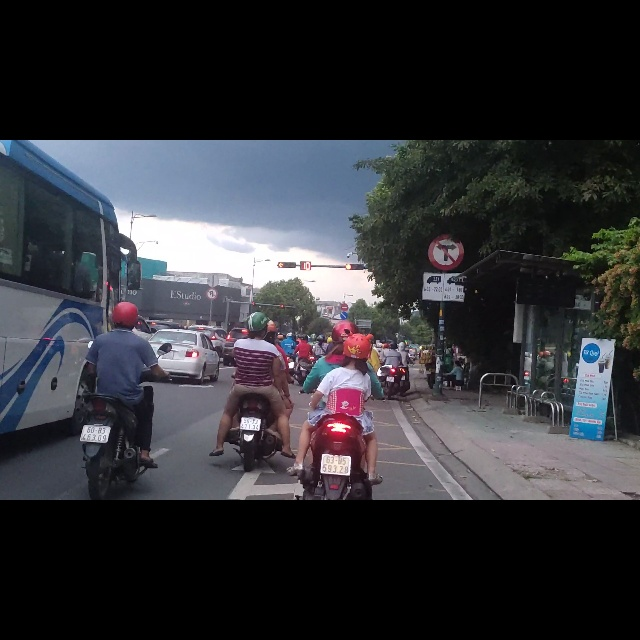bien_hieu_lenh: (427, 167, 464, 234), (422, 233, 466, 287), (205, 262, 218, 284), (340, 290, 349, 304), (340, 304, 348, 319)
